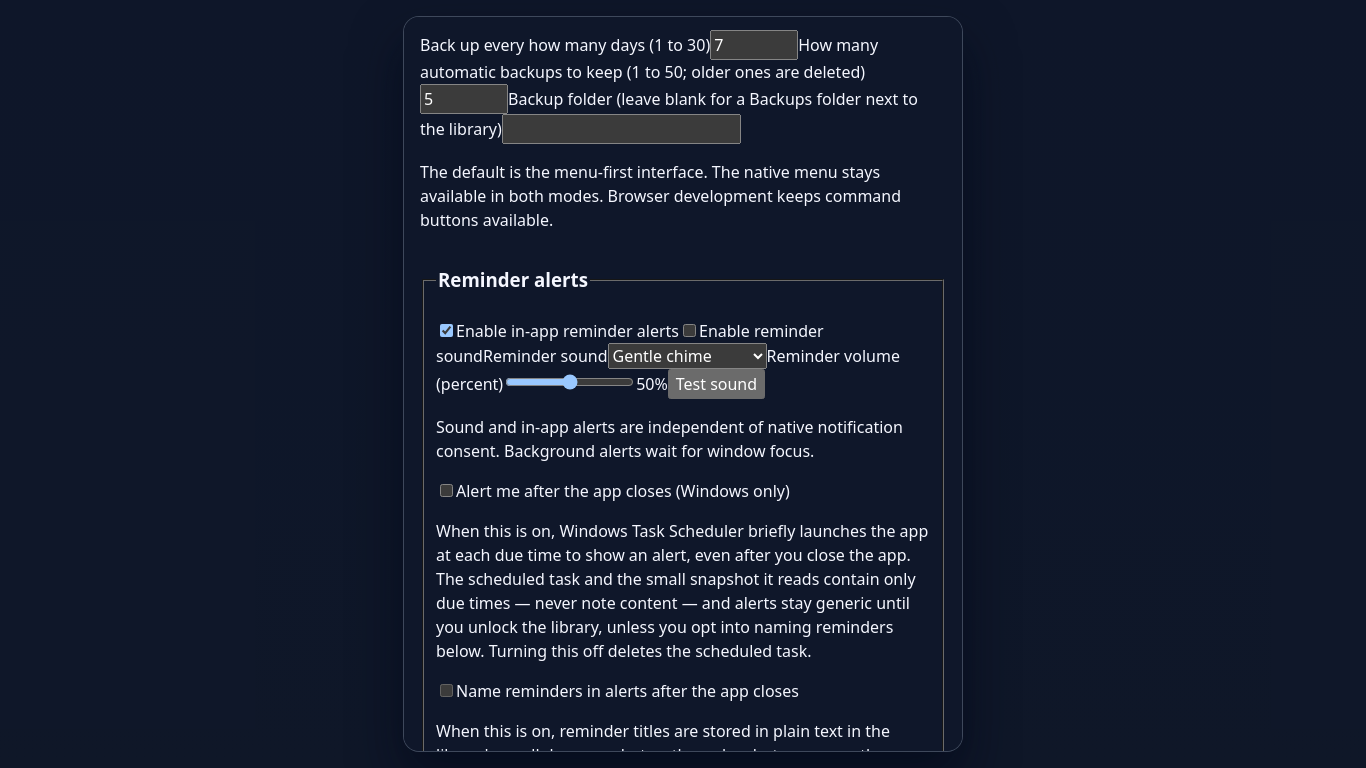
Scenario: reminder sound settings › announces test playback failures and stops audio when settings closes
(page scrolled)
Click the button "Test sound" at (716, 384), box [668, 369, 765, 399]
(page scrolled)
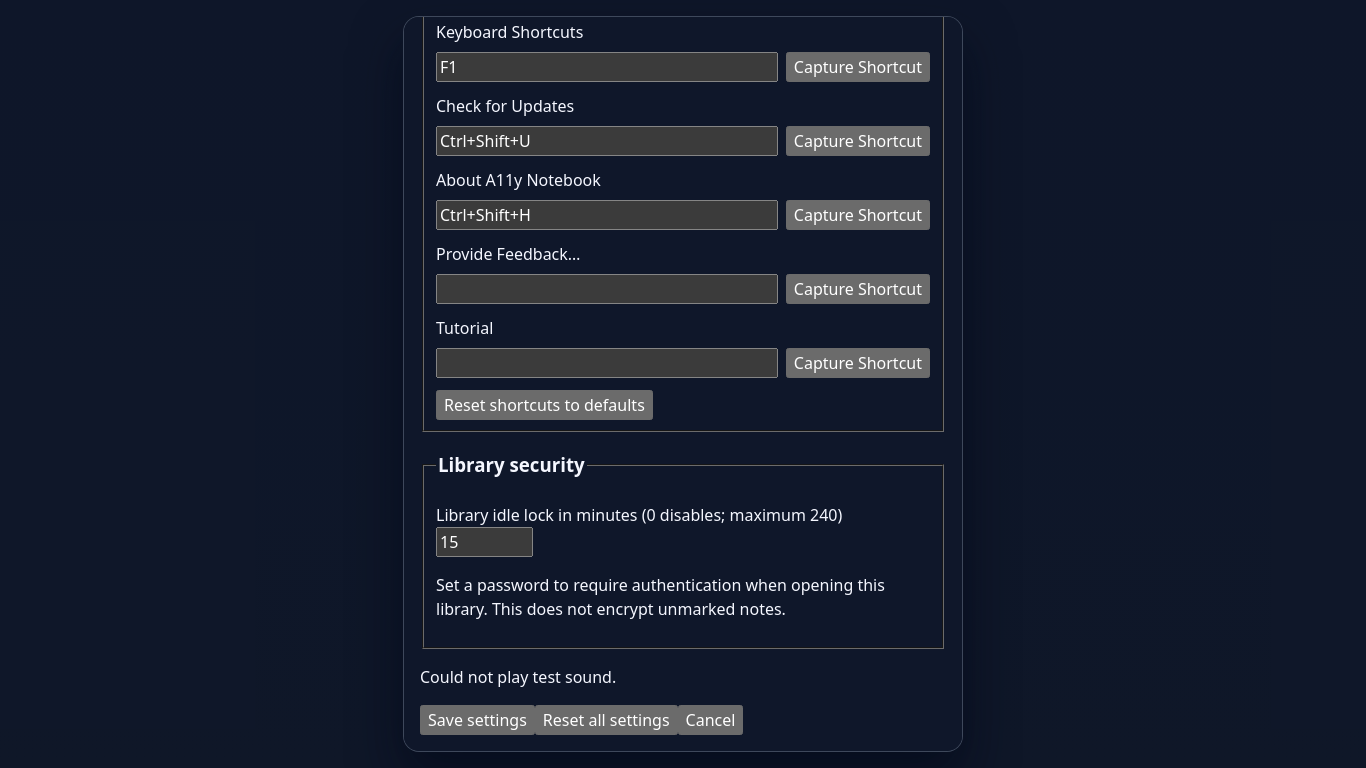
Now the message reads "Could not play test sound.", box [420, 666, 616, 688]
